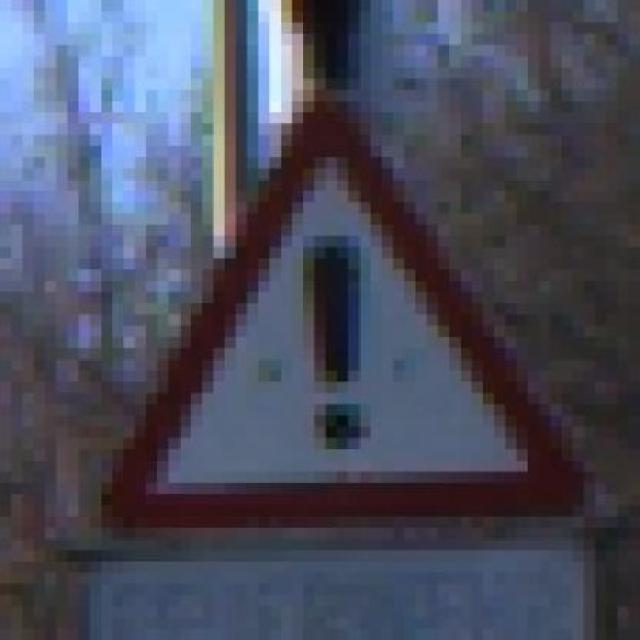Attention Please-: (68, 78, 595, 517)
